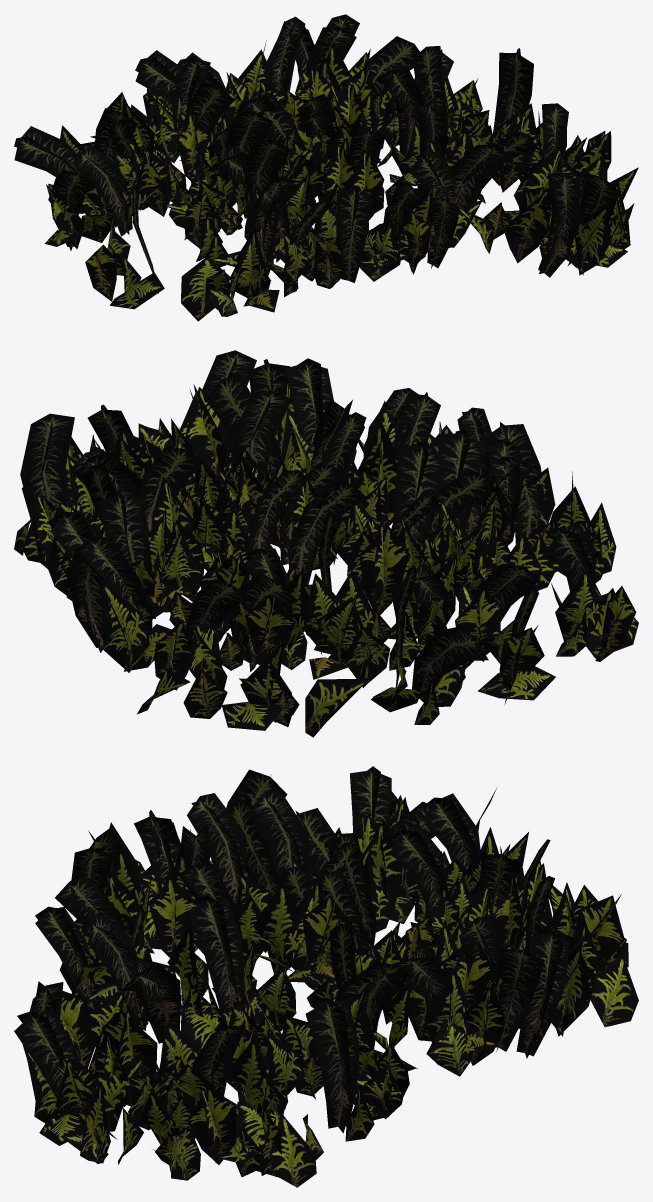
The model's file is Scan_Moss_B.fbx.
3 renders of one model, top to bottom at view 1: azimuth 30°, elevation 25°; view 2: azimuth 150°, elevation 25°; view 3: azimuth 270°, elevation 25°, orthographic. The views are drawn at different scales.
Parts seen in each view (by area): view 1: Scan_Moss_B_LOD0; view 2: Scan_Moss_B_LOD0; view 3: Scan_Moss_B_LOD0.
Boxes of the visible parts, x1,y1,x2,y2 form: Scan_Moss_B_LOD0: [14, 14, 638, 321]; Scan_Moss_B_LOD0: [14, 350, 638, 737]; Scan_Moss_B_LOD0: [14, 766, 638, 1187].
Bounding box in the file's own units: 0.5919 × 0.1827 × 0.5069.
